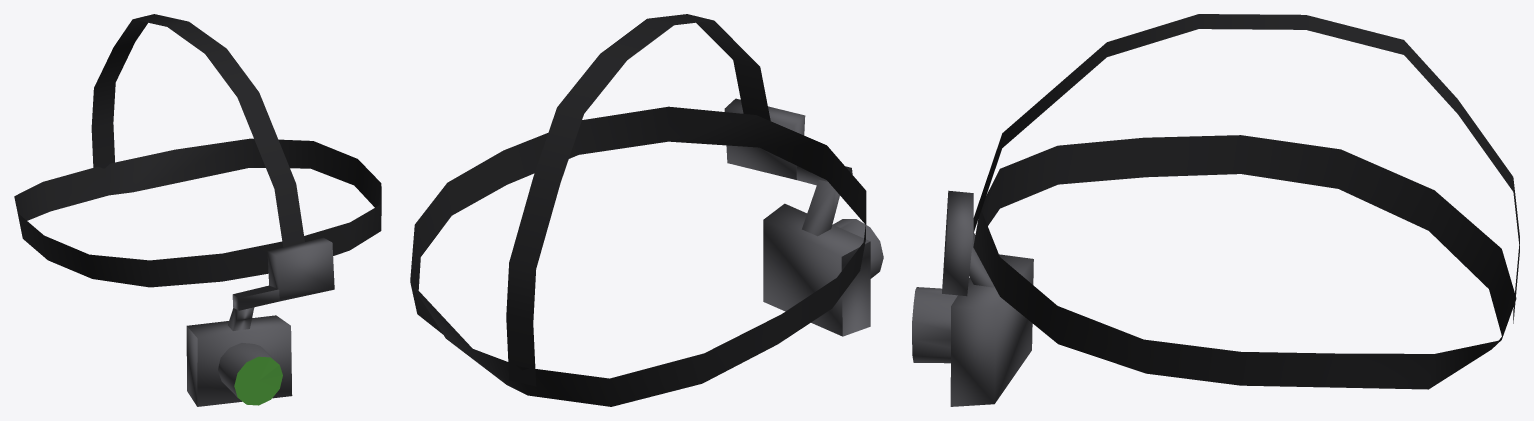
File: CE_SimpleNightVision.glb
3 renders of one model, left to right at view 1: azimuth 30°, elevation 25°; view 2: azimuth 150°, elevation 25°; view 3: azimuth 270°, elevation 25°, orthographic. The views are drawn at different scales.
Visible parts, largest first — view 1: CE_SimpleNightVision; view 2: CE_SimpleNightVision; view 3: CE_SimpleNightVision.
Part boxes in pixels (bbox=[...]): CE_SimpleNightVision: bbox=[14, 14, 381, 406]; CE_SimpleNightVision: bbox=[410, 14, 883, 406]; CE_SimpleNightVision: bbox=[912, 14, 1519, 406].
Size of the model in its own units: 9.34 by 7.91 by 11.07.
1 material, 1 textured.
